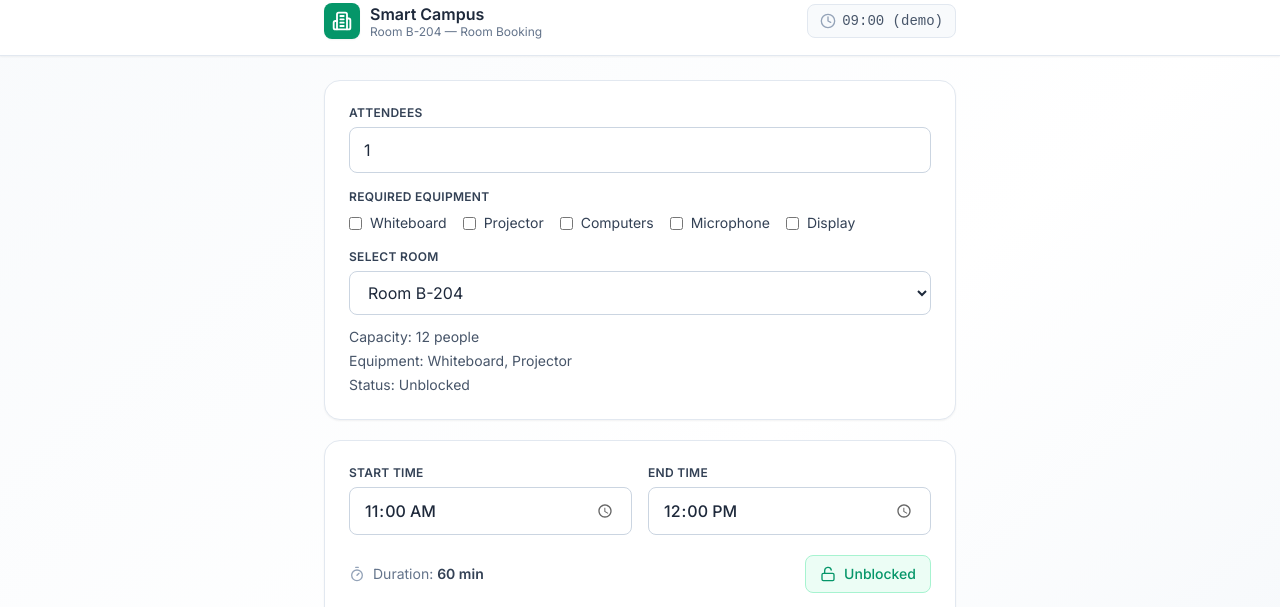
Test: Filter and room-switching behavior › preserves confirmation and booking isolation across filters and room switches
The image size is (1280, 607).
Select "Room E-205" in the dropdown with id "room-select" at x=640, y=293, box [349,271,931,315]
(page scrolled)
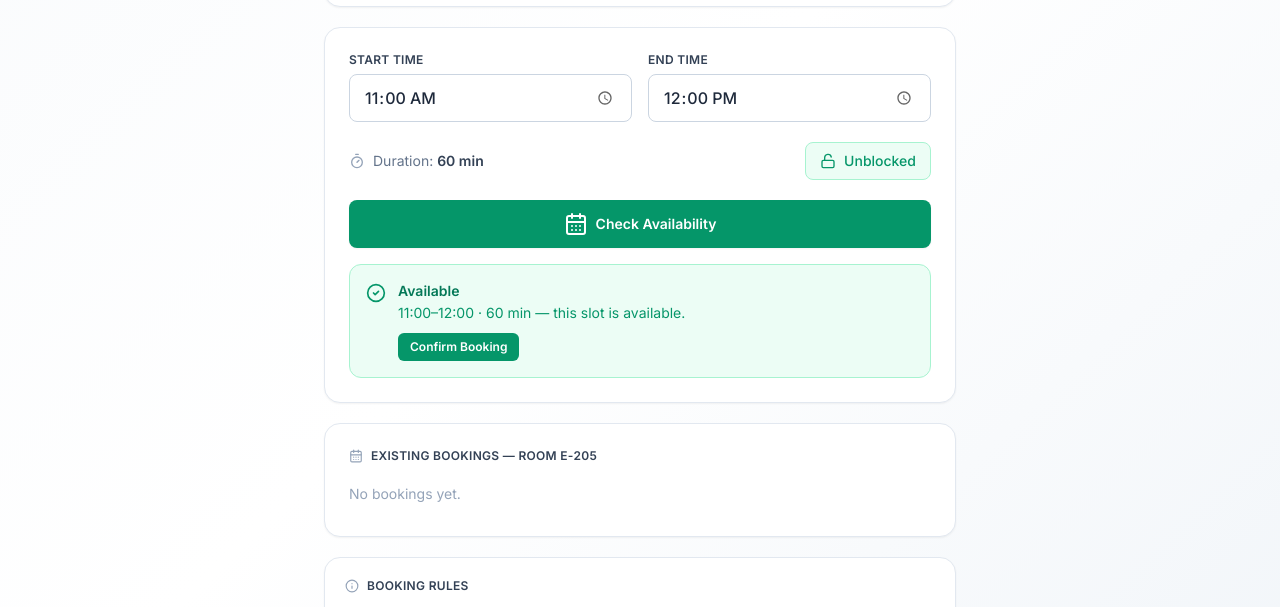
Click the button "Confirm Booking" at x=459, y=347, box [398,333,519,361]
(page scrolled)
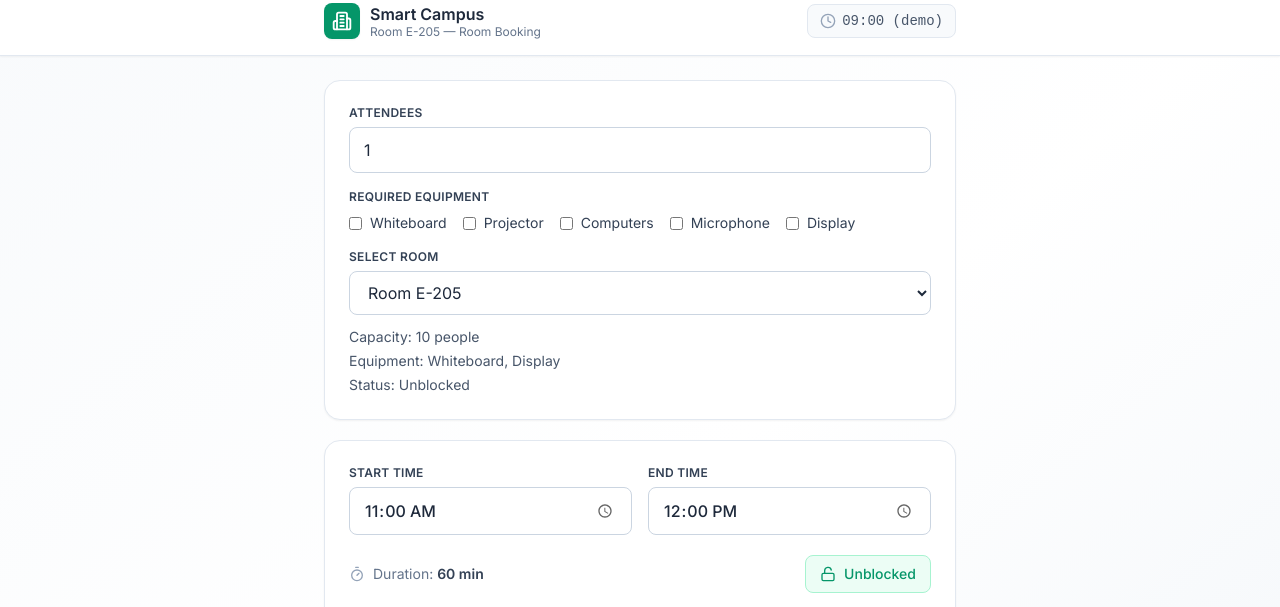
Click the checkbox labelled "Projector" at x=469, y=223, box [463,216,476,230]
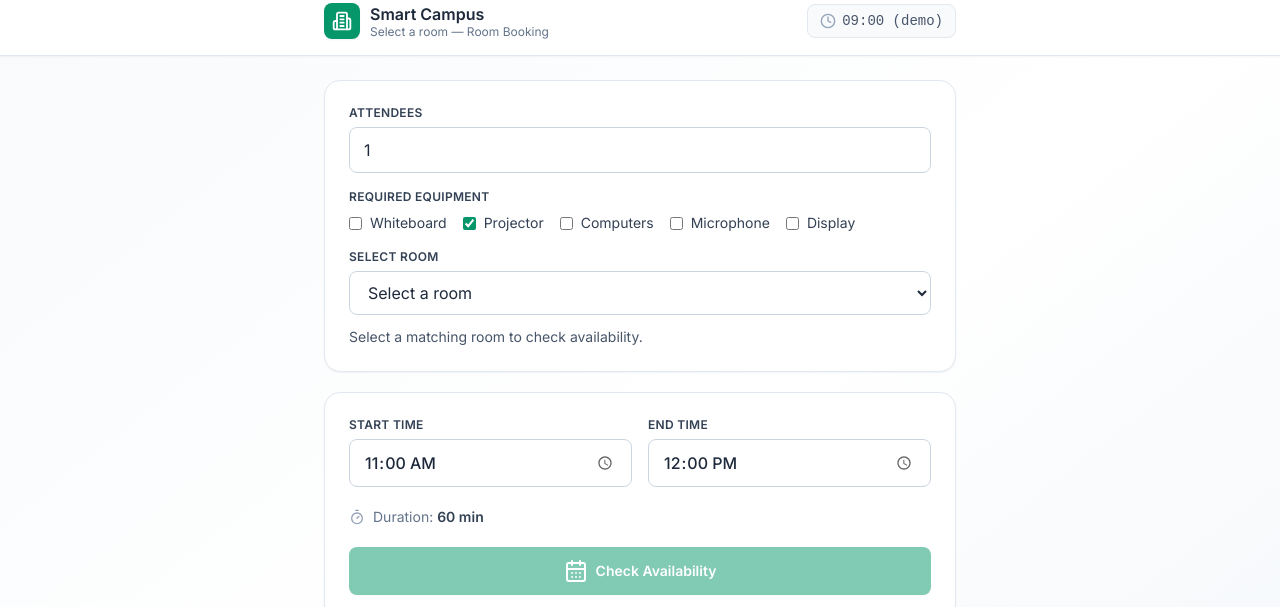
Select "Room B-204" in the dropdown with id "room-select" at x=640, y=293, box [349,271,931,315]
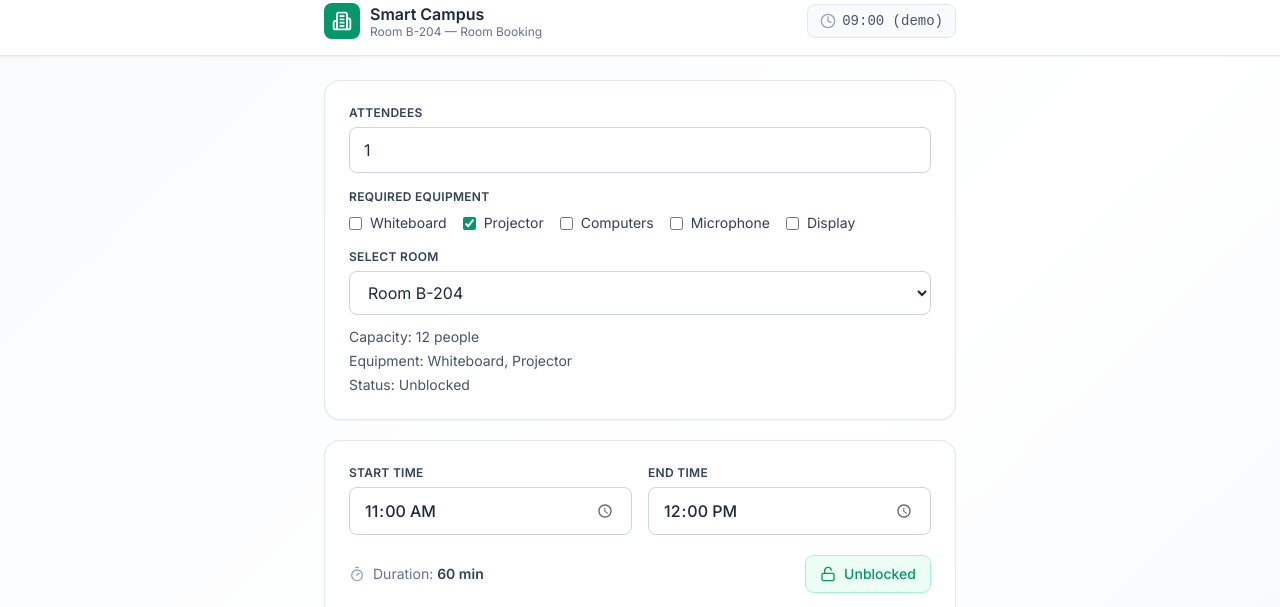
Expected: the text "New Booking" is not shown
Click the checkbox labelled "Projector" at x=469, y=223, box [463,216,476,230]
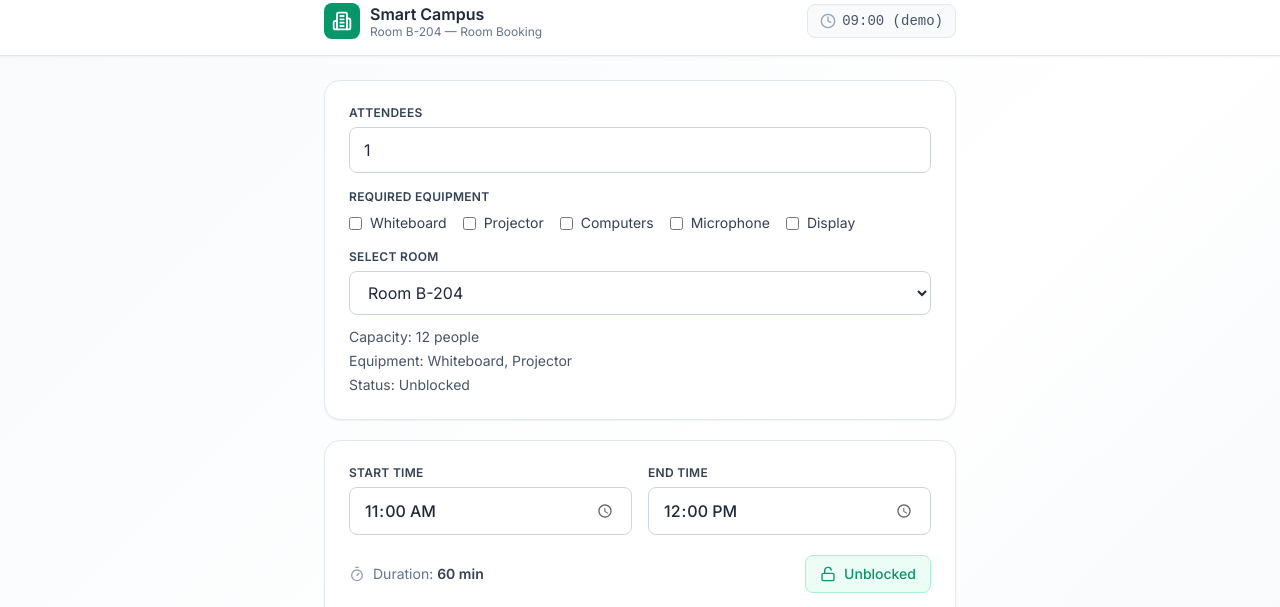
Select "Room E-205" in the dropdown with id "room-select" at x=640, y=293, box [349,271,931,315]
(page scrolled)
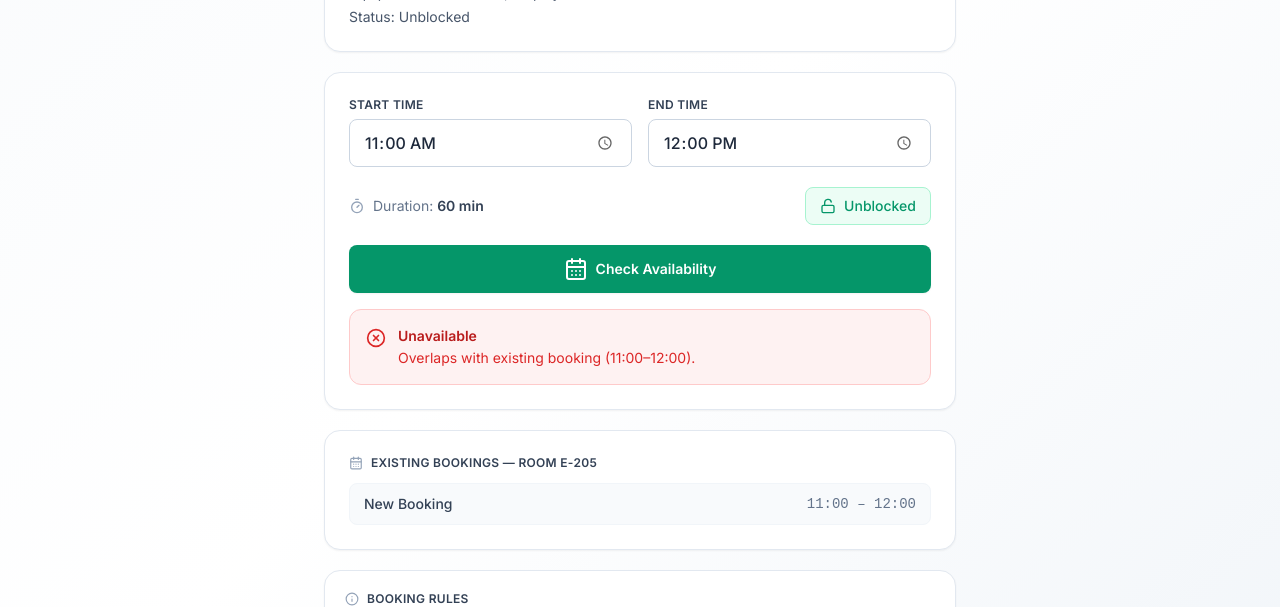
Expected: the text "New Booking" is shown, [364,494,452,514]
